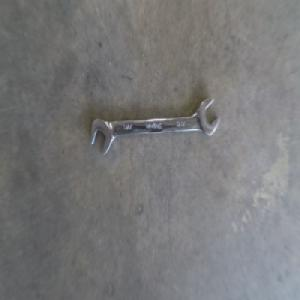Wrench: (91, 97, 217, 156)
